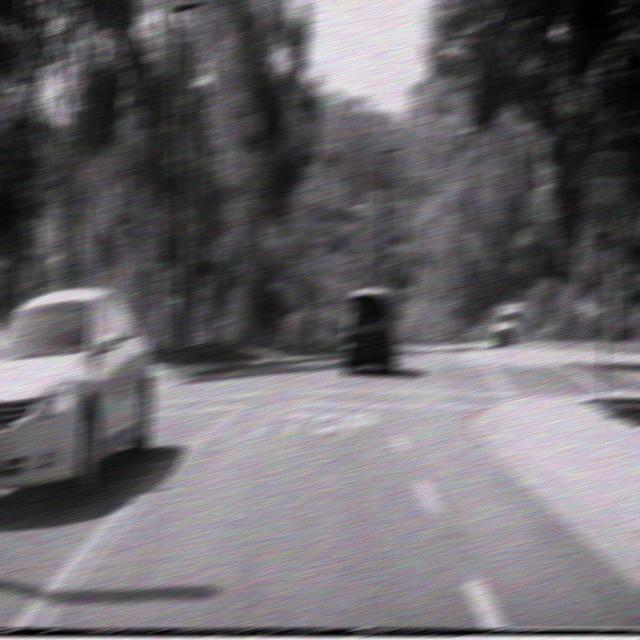stop: (582, 150, 628, 230)
